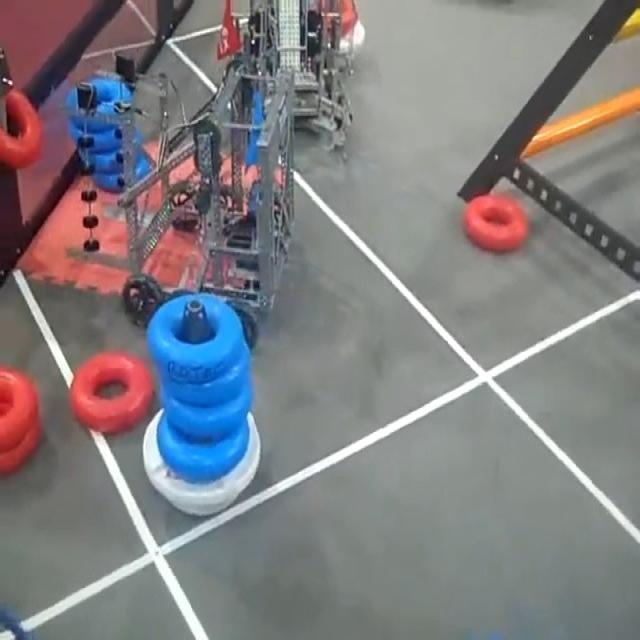Blue-Ring: (146, 293, 246, 382), (158, 413, 249, 482), (166, 383, 251, 440), (162, 353, 250, 406), (68, 73, 134, 133)
Red-Ring: (70, 353, 152, 432), (464, 195, 529, 252), (0, 88, 42, 168), (0, 367, 39, 451), (0, 422, 40, 474)
